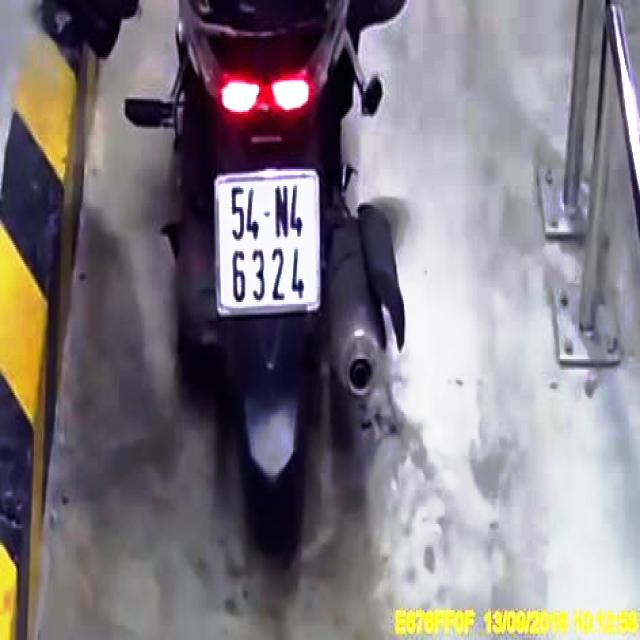license_plate: (217, 173, 321, 313)
